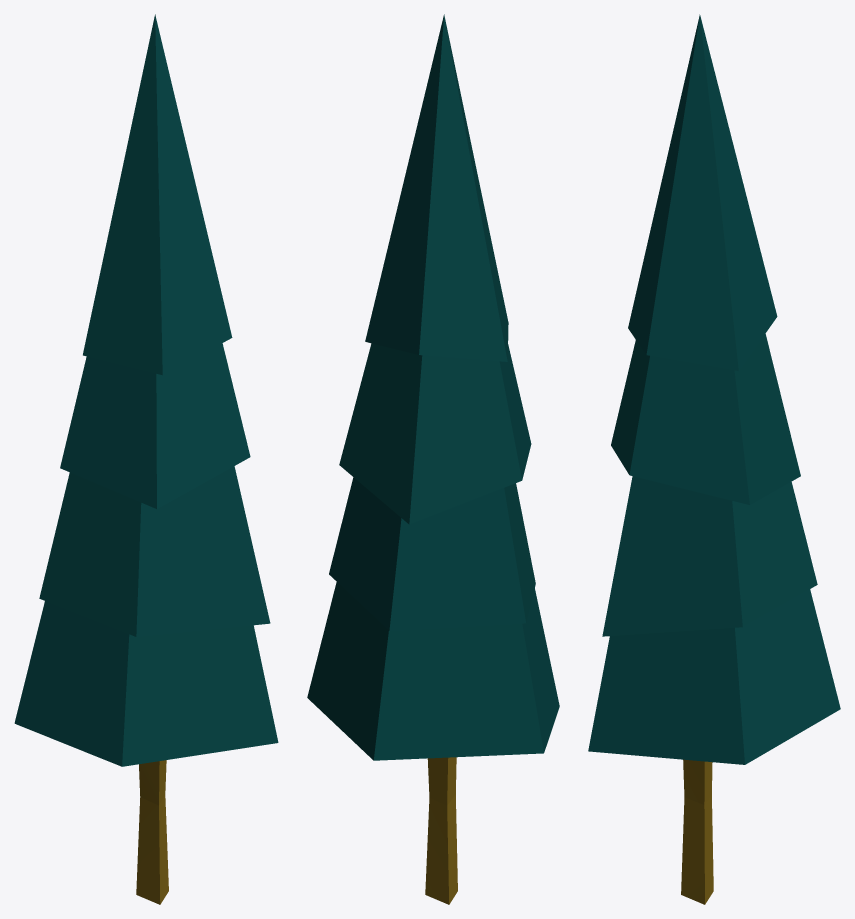
File: world_1_tree_small.dae
The picture shows the model from 3 angles, left to right: view 1: azimuth 30°, elevation 25°; view 2: azimuth 150°, elevation 25°; view 3: azimuth 270°, elevation 25°; orthographic projection.
Visible parts, largest first — view 1: small_pine_leaves, small_pine_base; view 2: small_pine_leaves, small_pine_base; view 3: small_pine_leaves, small_pine_base.
Part boxes in pixels (x1=…): small_pine_leaves: x1=14, y1=14, x2=278, y2=766; small_pine_base: x1=136, y1=760, x2=168, y2=904; small_pine_leaves: x1=307, y1=14, x2=559, y2=760; small_pine_base: x1=425, y1=757, x2=457, y2=904; small_pine_leaves: x1=588, y1=14, x2=840, y2=764; small_pine_base: x1=681, y1=759, x2=713, y2=904.
Bounding box in the file's own units: 1.24 × 1.15 × 4.44.
